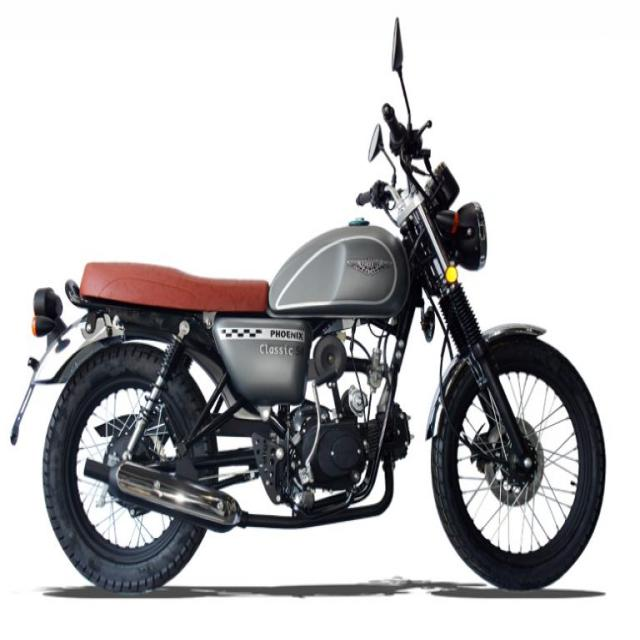Motorcycle: (20, 17, 607, 593)
